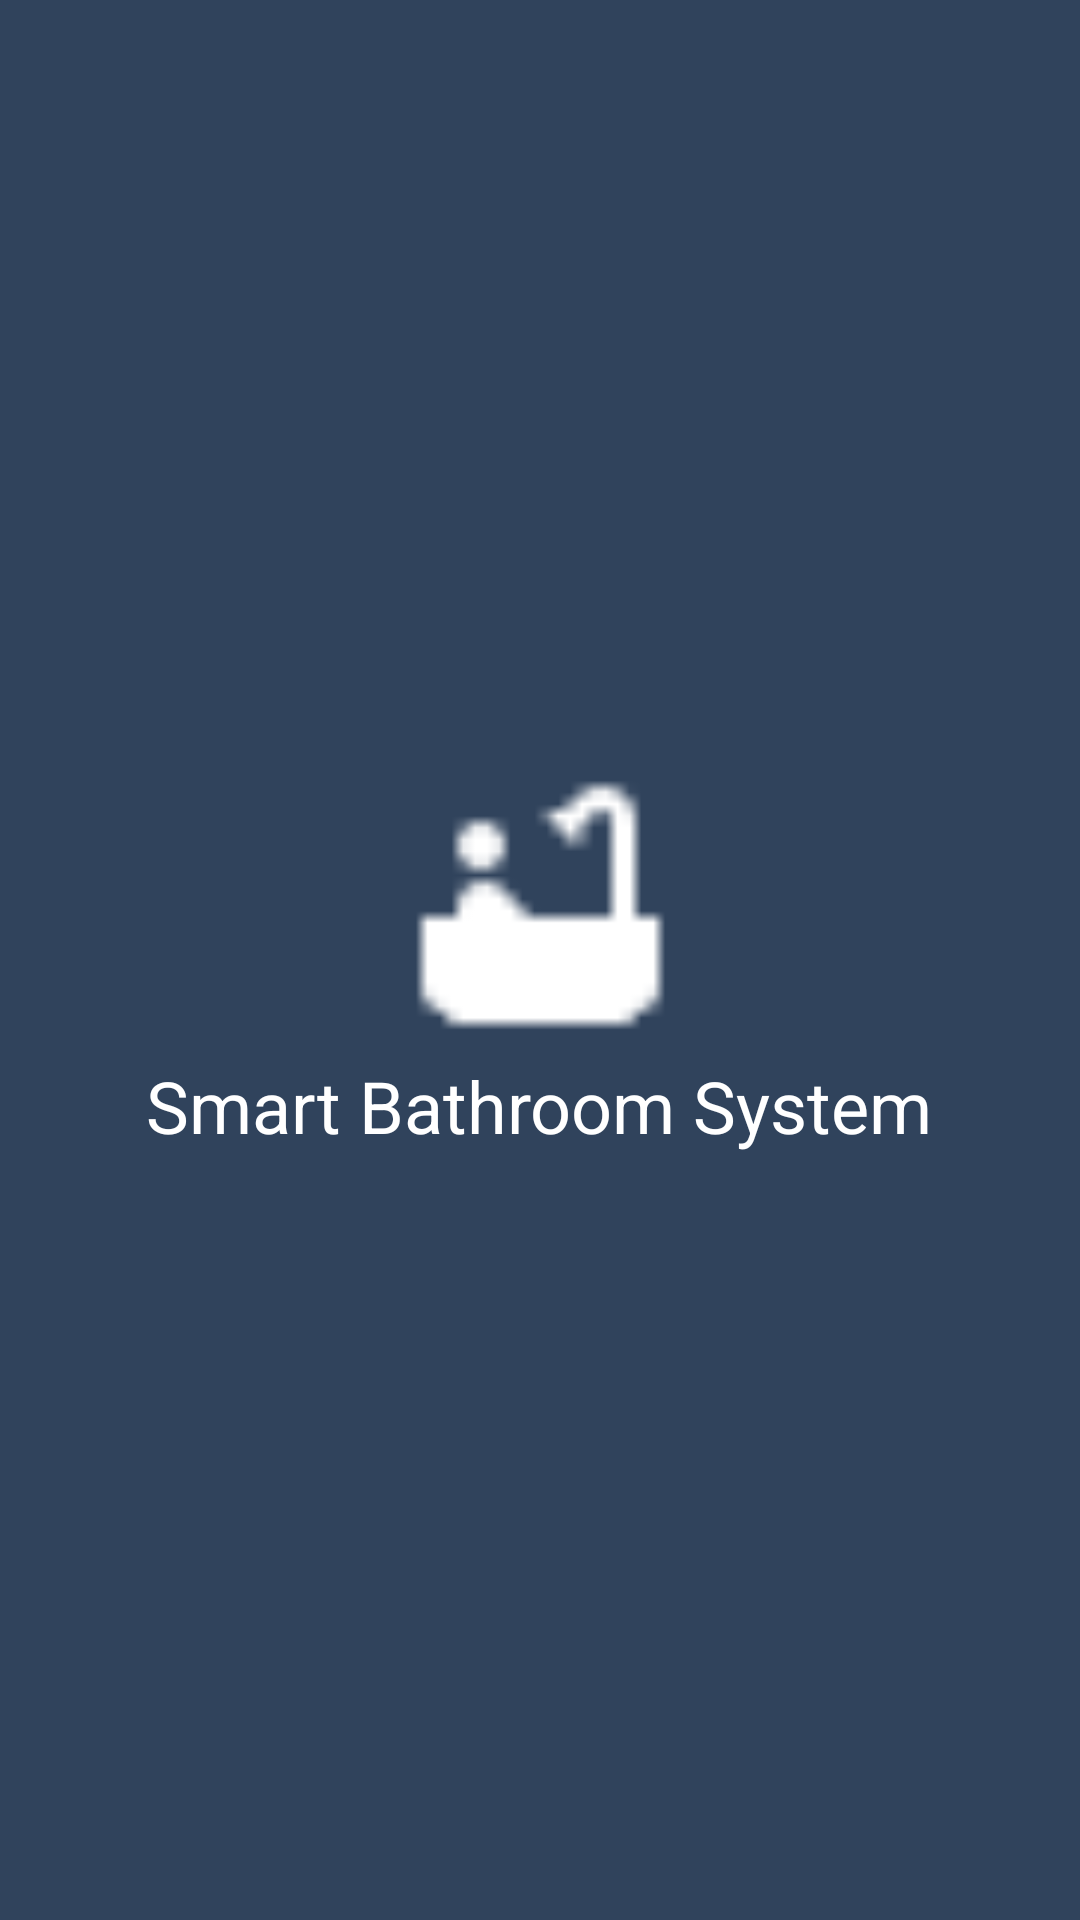

Icon bounding boxes for this 1080 × 1920 phone screenshot, format (x1, y1, x2, y2):
bathtub: (417, 782, 664, 1028)
